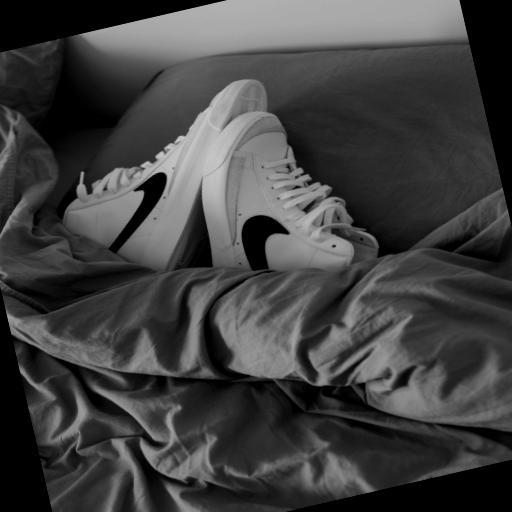shoe: (63, 80, 267, 270), (202, 111, 378, 270)
